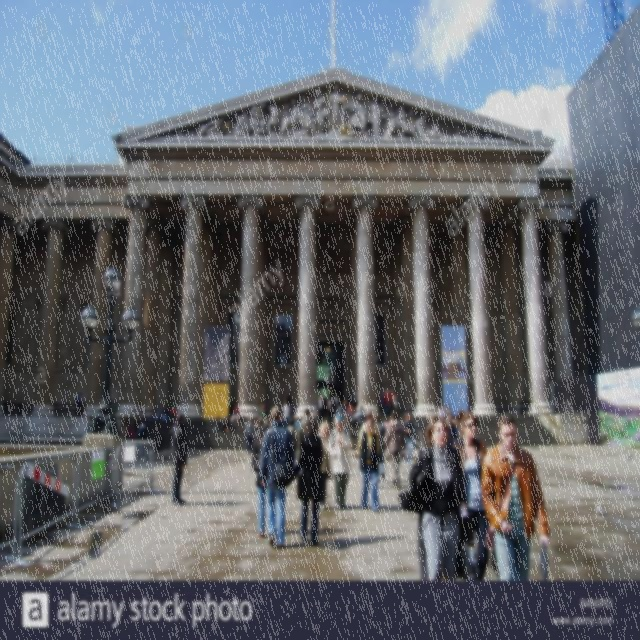pessoa: (177, 78, 501, 146), (480, 412, 550, 582), (408, 416, 468, 582), (452, 408, 490, 580), (258, 404, 298, 550), (290, 415, 326, 547), (326, 412, 354, 511), (356, 416, 382, 512), (167, 411, 189, 506), (382, 409, 407, 492), (251, 424, 269, 538), (202, 326, 230, 382), (316, 421, 331, 512), (374, 410, 386, 482), (444, 344, 467, 380), (400, 411, 414, 466), (358, 408, 380, 439), (297, 408, 312, 451), (134, 418, 148, 462), (445, 411, 460, 446), (323, 392, 336, 426), (243, 416, 254, 454), (424, 413, 436, 442), (314, 392, 324, 424), (388, 387, 398, 419), (399, 446, 415, 466), (409, 417, 418, 451), (452, 417, 462, 447), (125, 416, 136, 441), (252, 418, 262, 444), (230, 404, 242, 424), (74, 392, 83, 417), (282, 400, 290, 428), (212, 412, 222, 434), (348, 401, 356, 427), (160, 403, 170, 423), (286, 417, 297, 435), (332, 392, 340, 415), (134, 413, 142, 435), (437, 402, 447, 419), (444, 404, 454, 421), (357, 405, 366, 423), (259, 404, 267, 422), (347, 389, 355, 407), (147, 411, 158, 424), (384, 389, 389, 417), (168, 406, 177, 420), (294, 418, 301, 436), (341, 399, 349, 413), (382, 416, 389, 431), (322, 397, 327, 417), (224, 414, 232, 426), (256, 414, 264, 426), (264, 416, 272, 428), (311, 416, 318, 428), (160, 412, 168, 422), (336, 406, 343, 416), (286, 393, 292, 404), (157, 403, 163, 413), (399, 417, 406, 425)
